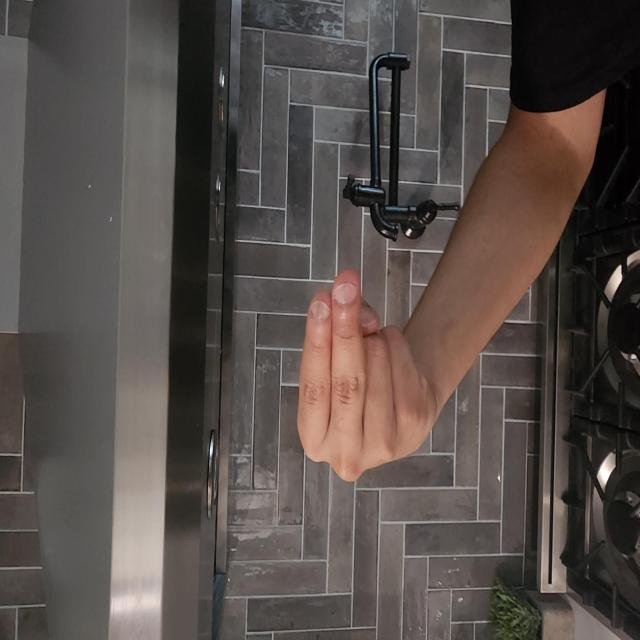H: (115, 392, 282, 586)
